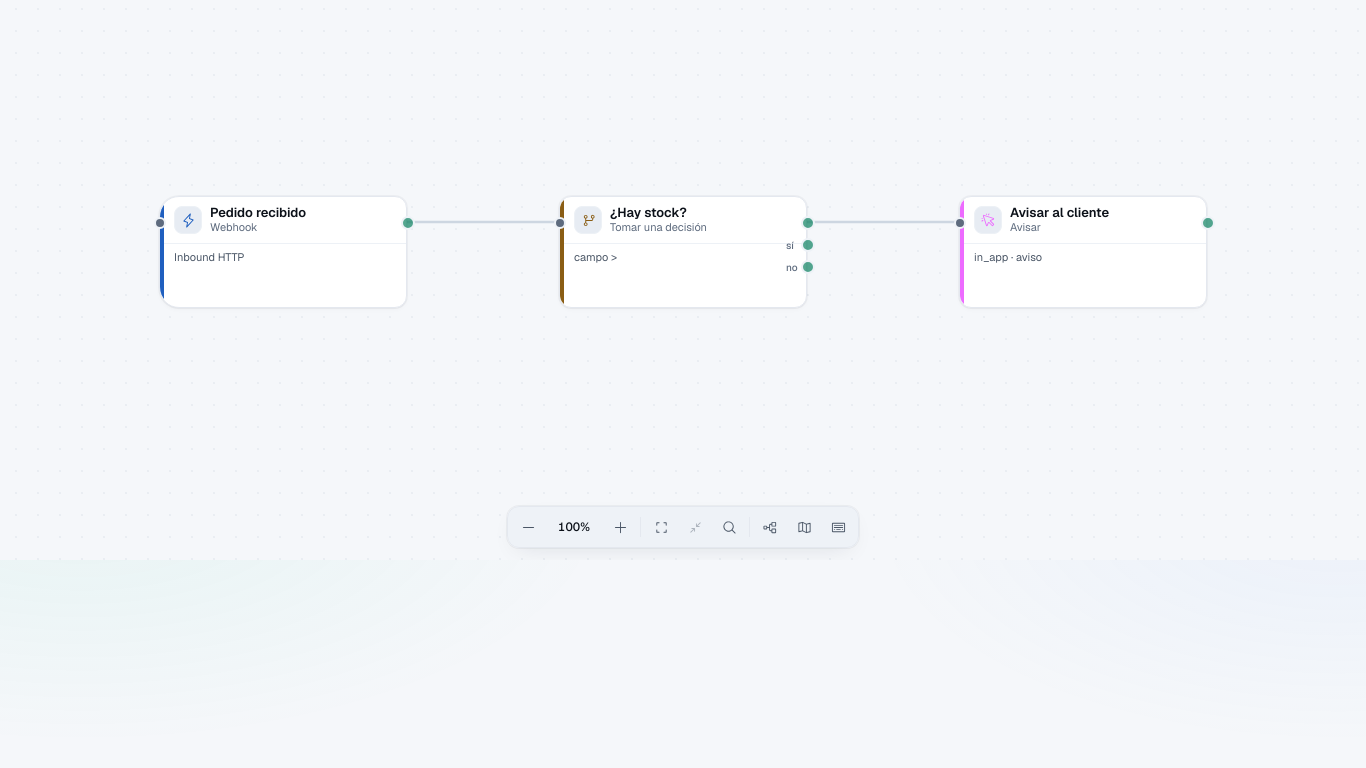
WorkflowCanvas › Ctrl+F busca por nombre y Enter selecciona el nodo
Press f
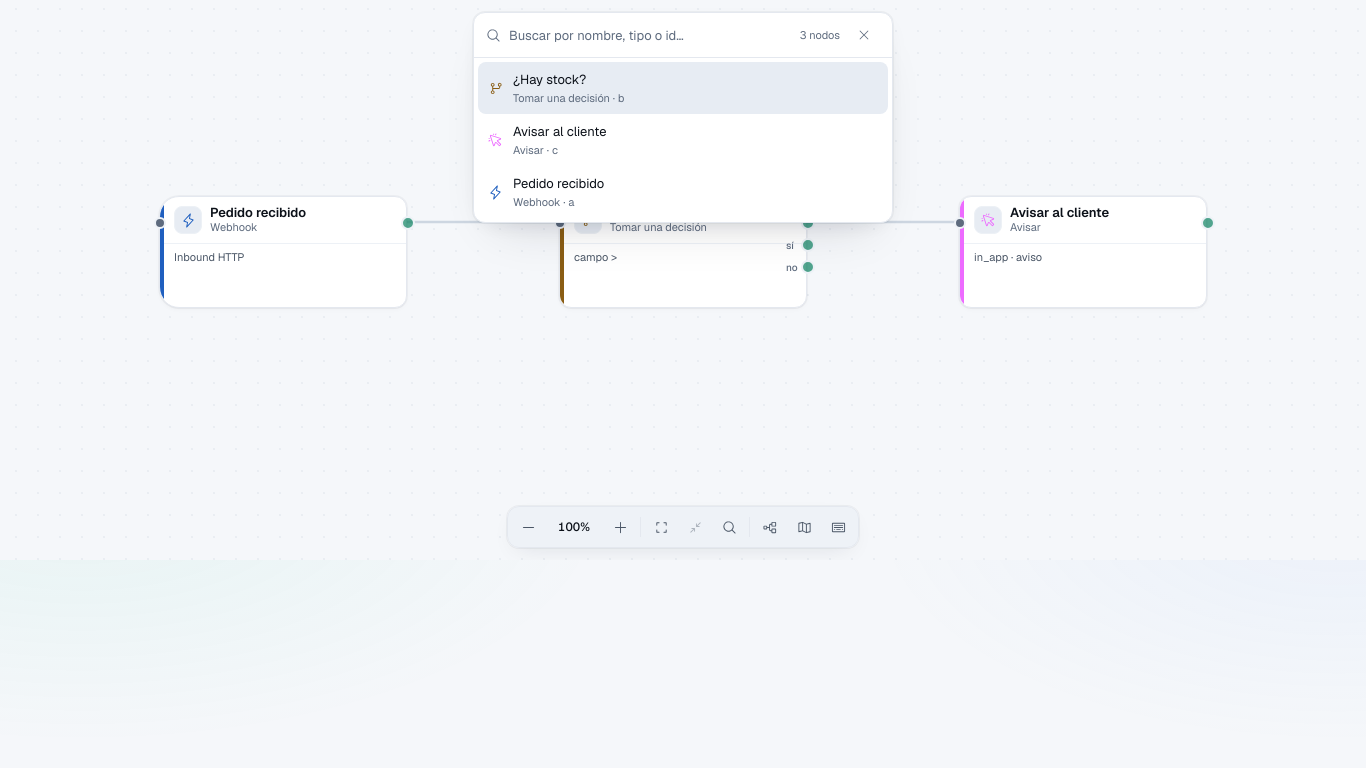
Type "stock" into the field with test id "wf-canvas-search-input" at (650, 35), box 509,13 -> 792,57
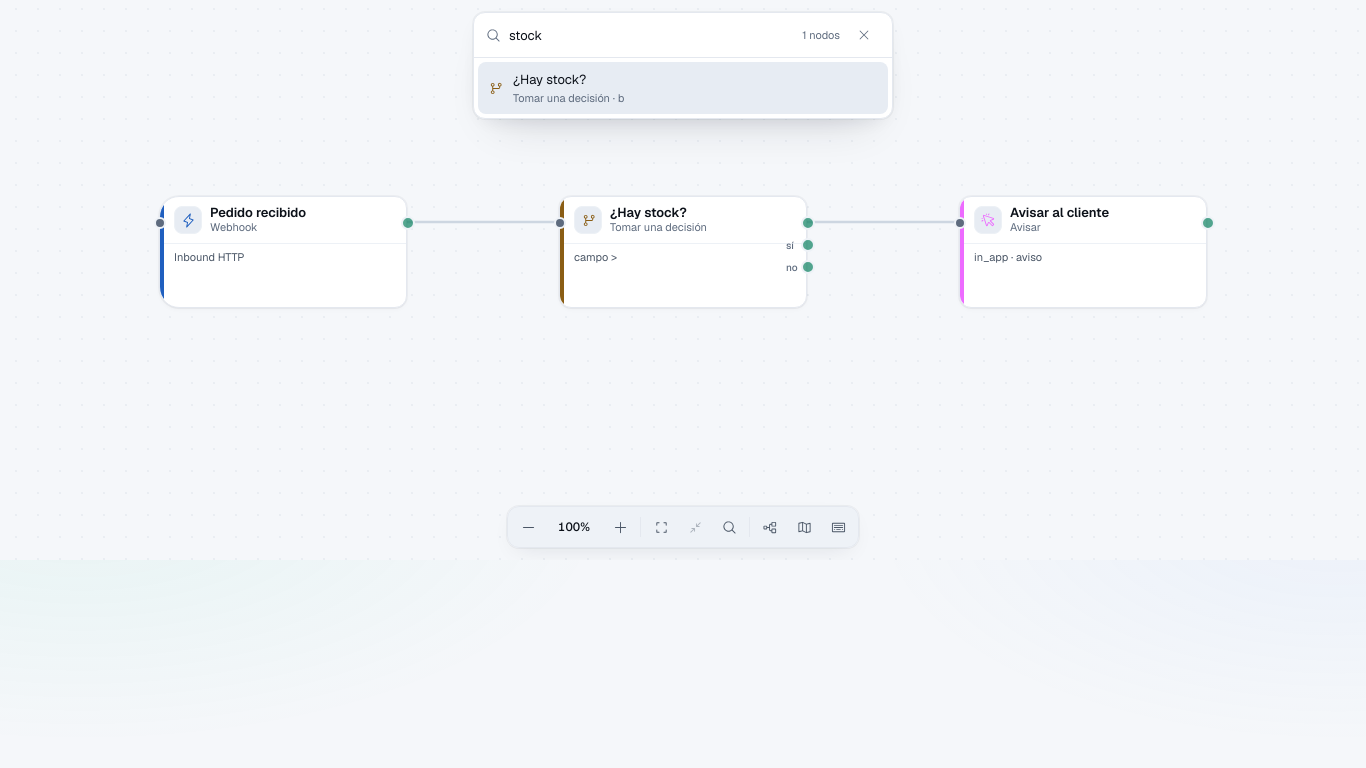
Expected: the number of options with test id "wf-canvas-search-hit" is 1, 478,62 -> 888,114
Press Enter
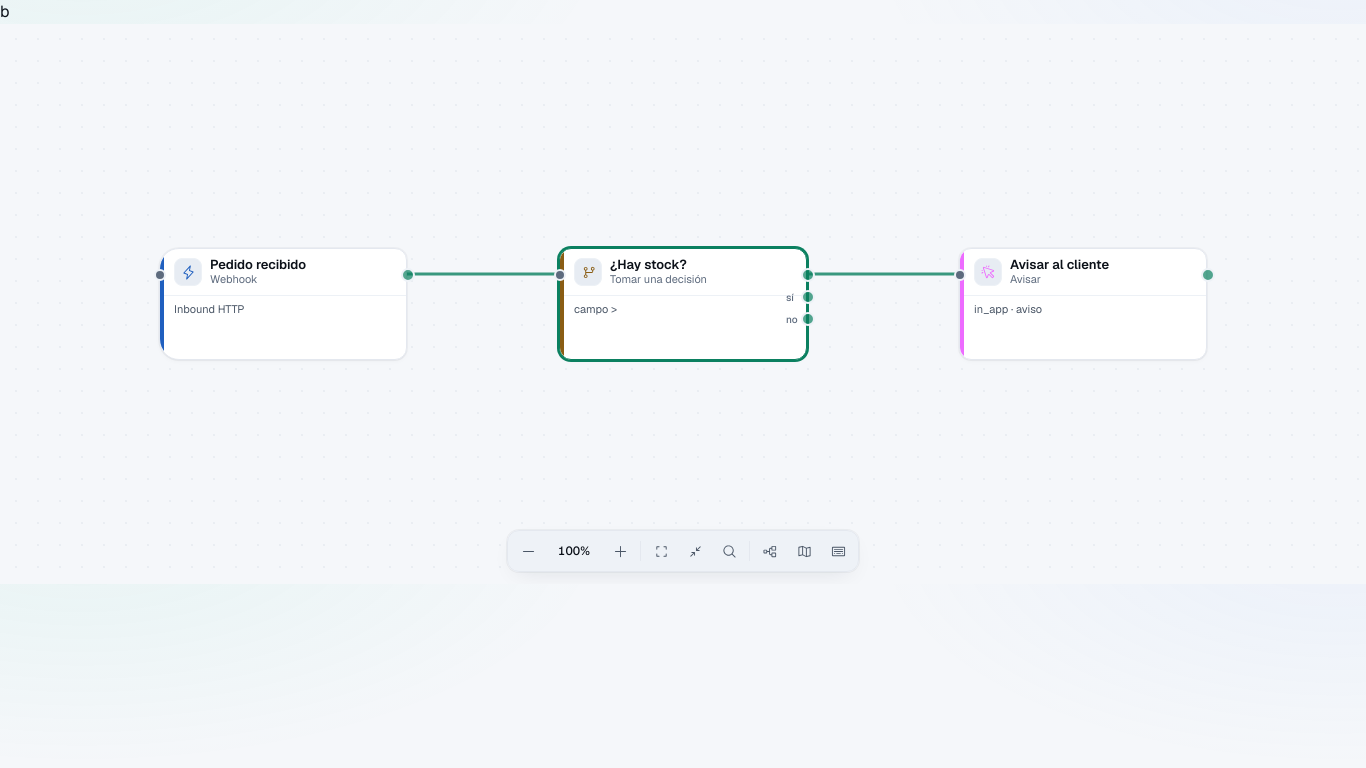
Expected: the text with test id "selected" reads "b", 0,1 -> 10,22
Expected: the dialog with test id "wf-canvas-search" is gone
